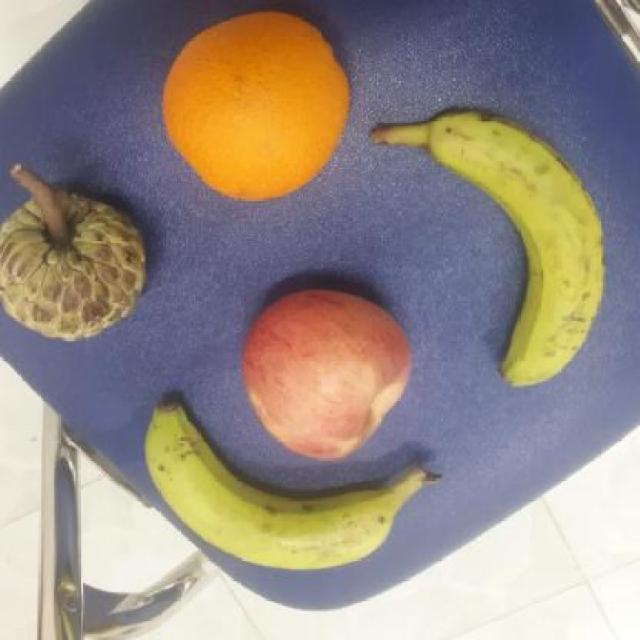apple: (236, 280, 416, 465)
banana: (367, 105, 611, 388), (136, 389, 430, 573)
oren: (158, 1, 356, 208)
sugar apple: (0, 169, 155, 345)
